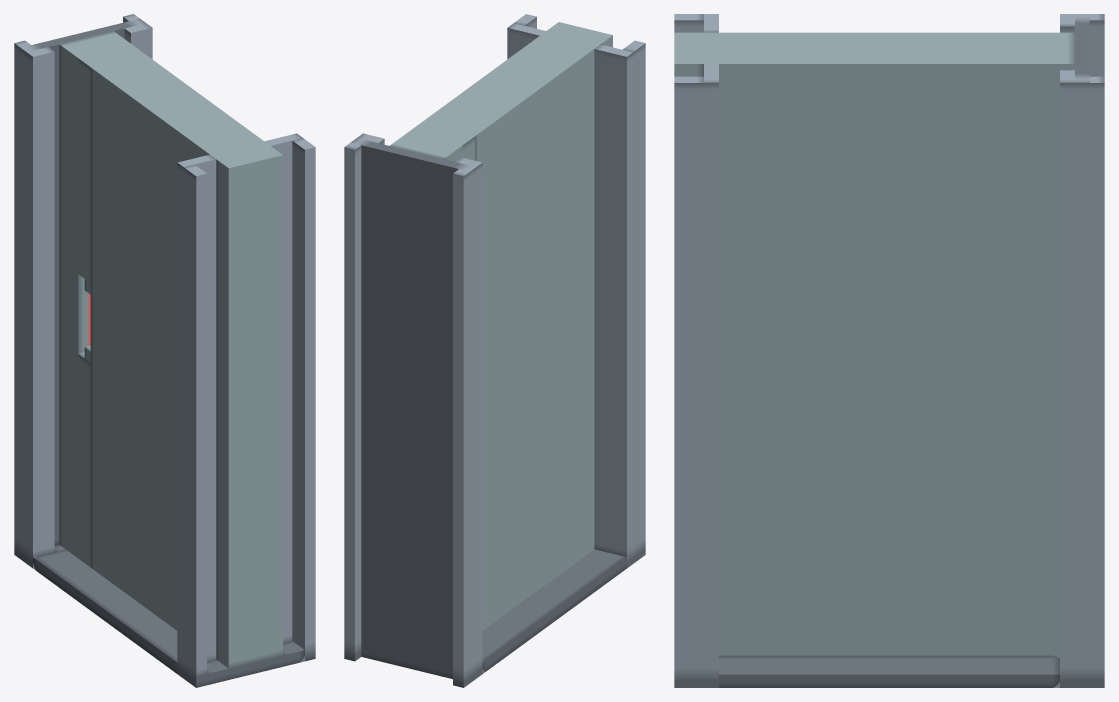
Rendered from dzwi_szpital.dae.
The picture shows the model from 3 angles, left to right: view 1: azimuth 30°, elevation 25°; view 2: azimuth 150°, elevation 25°; view 3: azimuth 270°, elevation 25°; orthographic projection. The views are drawn at different scales.
Parts seen in each view (by area): view 1: Content; view 2: Content; view 3: Content.
Part boxes in pixels (left/top/right/bottom): Content: left=14, top=14, right=315, bottom=687; Content: left=344, top=14, right=645, bottom=687; Content: left=674, top=14, right=1104, bottom=687.
Bounding box in the file's own units: 11 × 45 × 29.
Materials: 1 (1 with a texture image).
